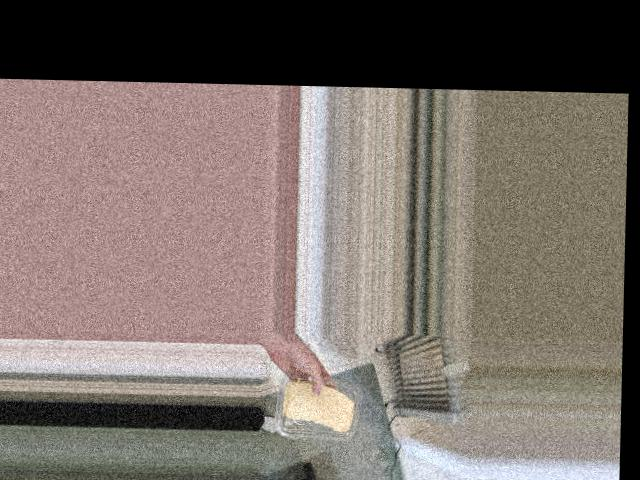cheese: (276, 373, 364, 439)
